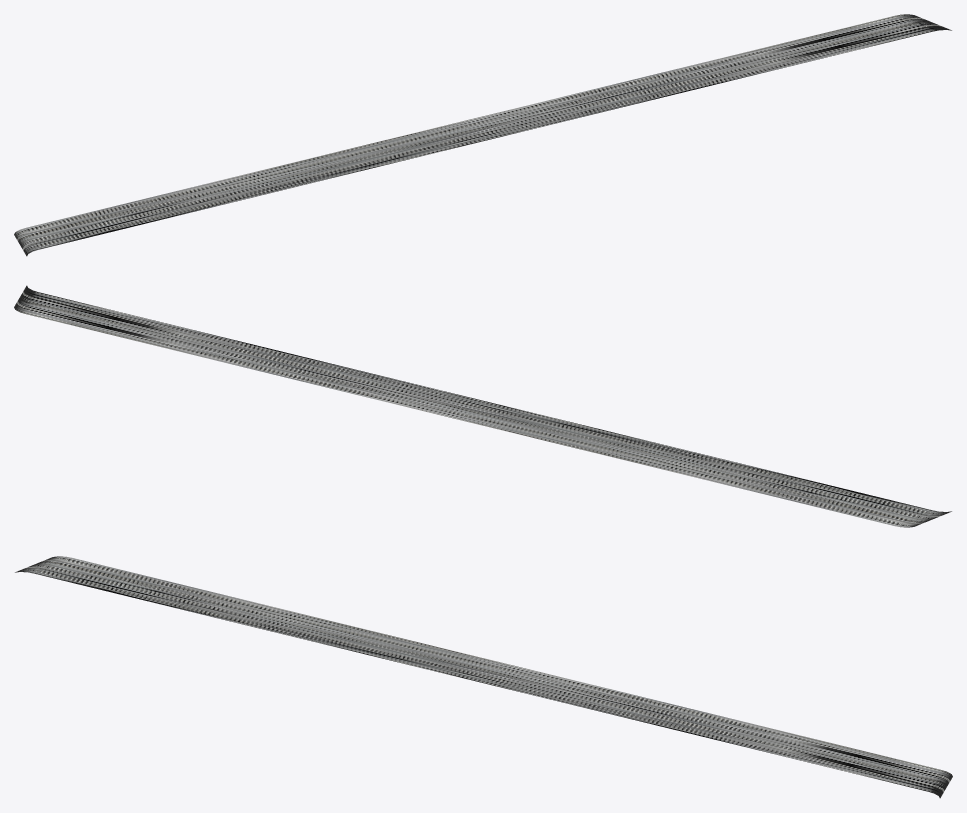
The model's file is Belt.fbx.
3 renders of one model, top to bottom at view 1: azimuth 30°, elevation 25°; view 2: azimuth 150°, elevation 25°; view 3: azimuth 330°, elevation 25°, orthographic.
Parts seen in each view (by area): view 1: Plane; view 2: Plane; view 3: Plane.
Part boxes in pixels (x1,y1,x2,y2): Plane: (14,14,951,256); Plane: (14,285,951,527); Plane: (15,556,952,798).
Bounding box in the file's own units: 41.54 × 3.78e-07 × 2.32.
